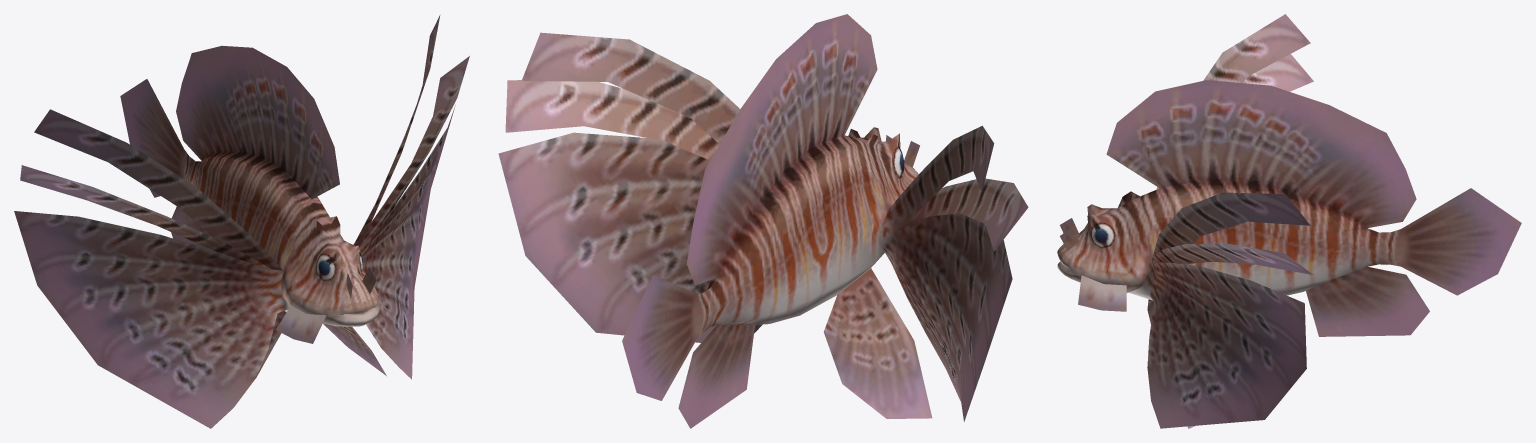
The model's file is FishMinokasago.glb.
The picture shows the model from 3 angles, left to right: view 1: azimuth 30°, elevation 25°; view 2: azimuth 150°, elevation 25°; view 3: azimuth 270°, elevation 25°; orthographic projection. The views are drawn at different scales.
Visible parts, largest first — view 1: FishMinokasago__mMinokasago; view 2: FishMinokasago__mMinokasago; view 3: FishMinokasago__mMinokasago.
Part boxes in pixels (<box>): FishMinokasago__mMinokasago: <box>14,15,469,428</box>; FishMinokasago__mMinokasago: <box>498,14,1028,428</box>; FishMinokasago__mMinokasago: <box>1057,14,1521,428</box>.
Size of the model in its own units: 8.49 by 5.88 by 8.07.
Materials: 1 (1 with a texture image).
